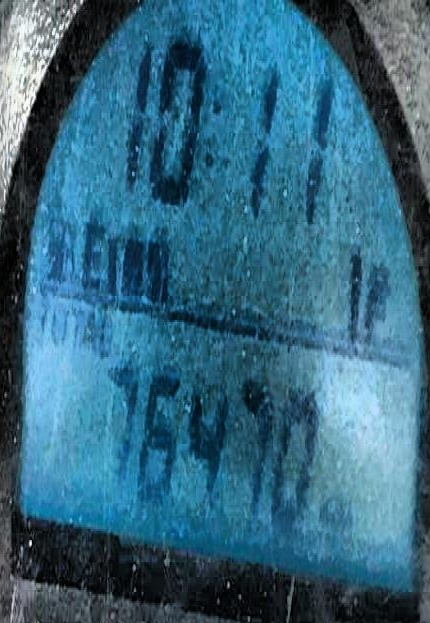0: (150, 33, 204, 208), (274, 379, 314, 532)
1: (120, 26, 158, 198), (248, 55, 282, 236), (301, 61, 337, 231)
4: (185, 369, 228, 501)
6: (140, 360, 179, 508)
7: (237, 361, 277, 531), (105, 355, 139, 493)
X: (362, 255, 391, 342), (80, 209, 106, 296), (48, 299, 67, 353), (69, 299, 84, 358), (36, 292, 51, 345), (82, 301, 95, 362)
